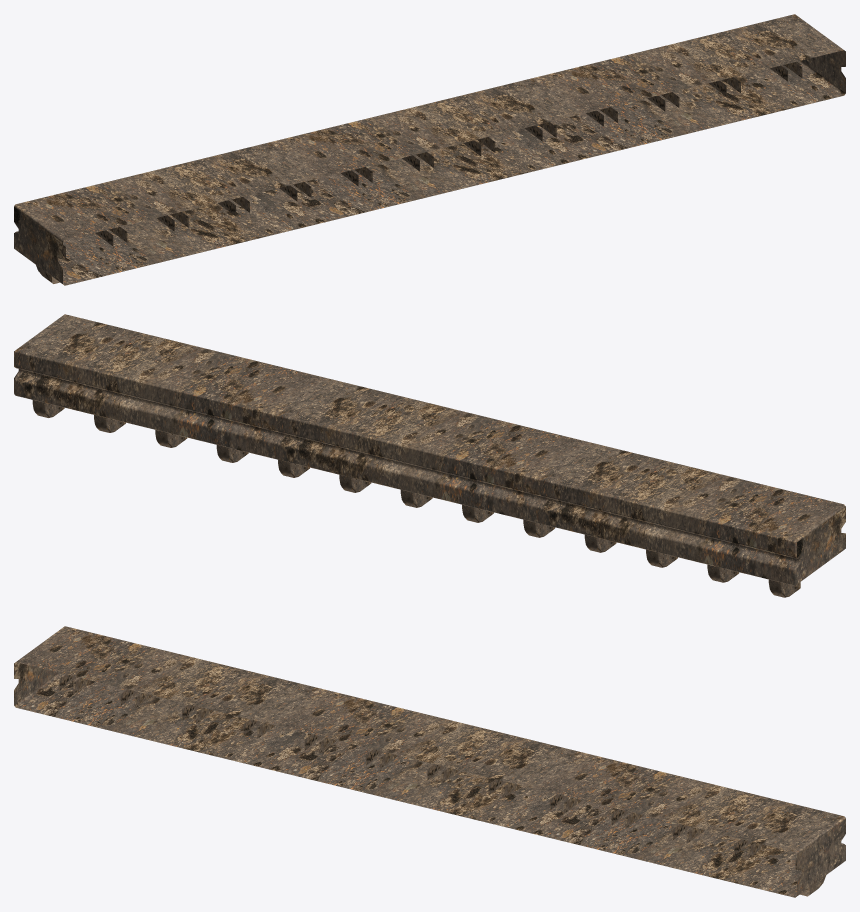
Rendered from Trimx9.fbx.
The picture shows the model from 3 angles, top to bottom: view 1: azimuth 30°, elevation 25°; view 2: azimuth 150°, elevation 25°; view 3: azimuth 330°, elevation 25°; orthographic projection.
Visible parts, largest first — view 1: Trimx9; view 2: Trimx9; view 3: Trimx9.
Boxes of the visible parts, bbox=[...] form: Trimx9: bbox=[14, 14, 845, 285]; Trimx9: bbox=[14, 314, 845, 597]; Trimx9: bbox=[14, 626, 845, 897].
Size of the model in its own units: 900 by 75.48 by 100.
